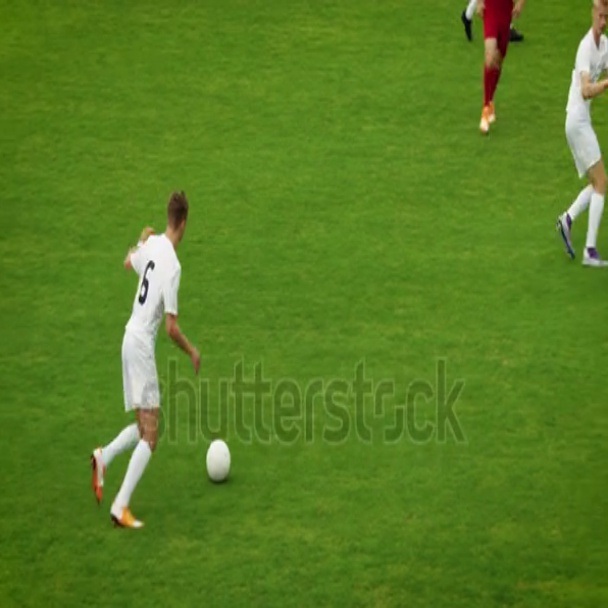ball: (202, 435, 233, 483)
